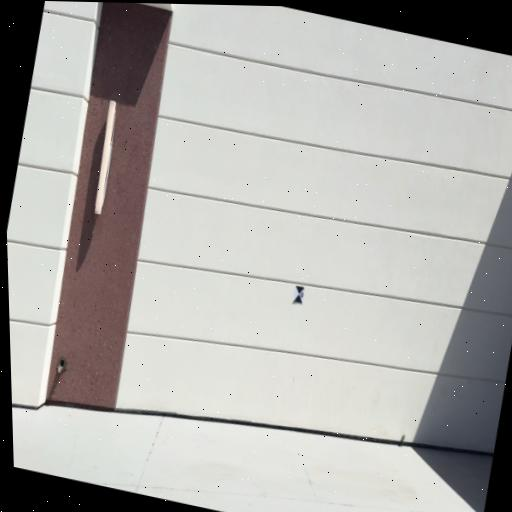target0: (292, 285, 305, 305)
